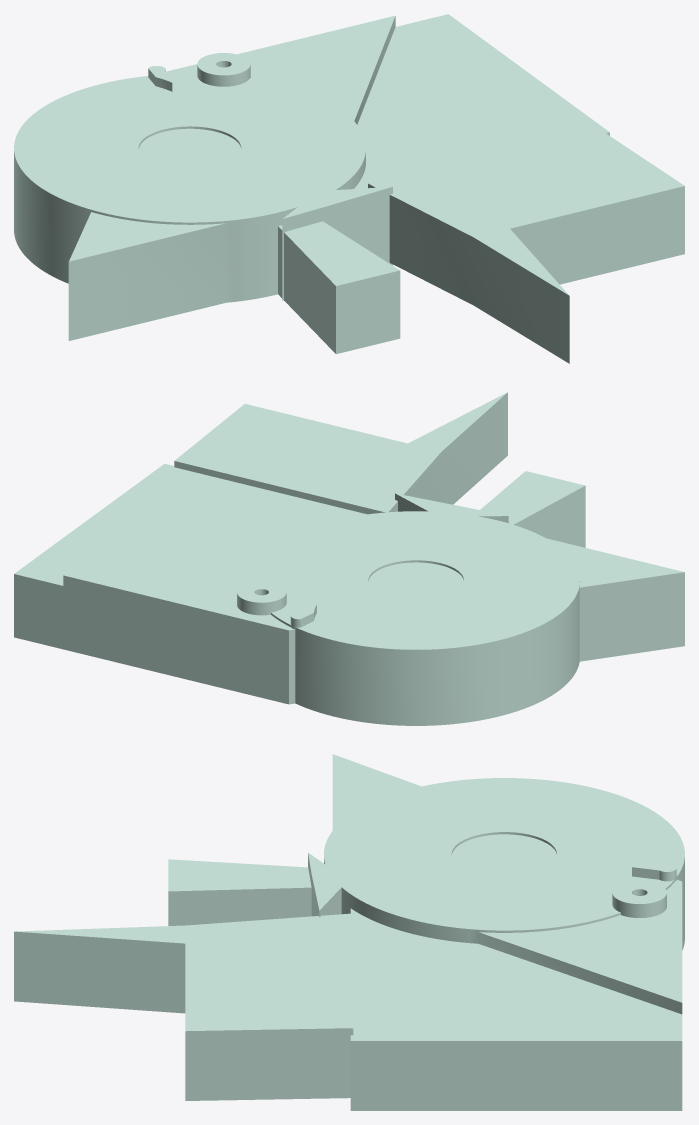
The picture shows the model from 3 angles, top to bottom: view 1: azimuth 30°, elevation 25°; view 2: azimuth 150°, elevation 25°; view 3: azimuth 270°, elevation 25°; orthographic projection. The views are drawn at different scales.
Parts seen in each view (by area): view 1: Renderer Node; view 2: Renderer Node; view 3: Renderer Node.
Boxes of the visible parts, x1,y1,x2,y2 form: Renderer Node: (14, 14, 684, 363); Renderer Node: (14, 392, 684, 725); Renderer Node: (14, 754, 684, 1110).
Bounding box in the file's own units: 1.98 × 0.3203 × 2.04.
